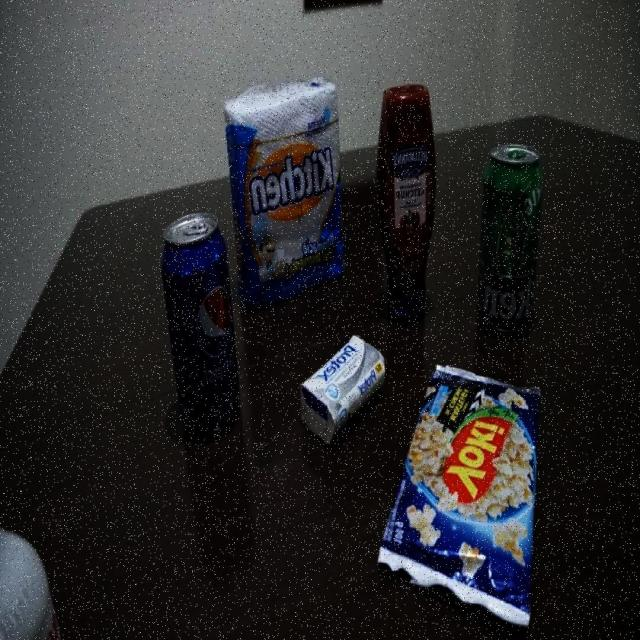BeerCan: (476, 140, 546, 343)
CoconutMilk: (0, 495, 64, 640)
Ketchup: (370, 80, 440, 330)
Napkin: (222, 75, 347, 311)
Popcorn: (378, 364, 541, 634)
Soap: (298, 334, 387, 451)
SodaCan: (158, 210, 242, 439)
